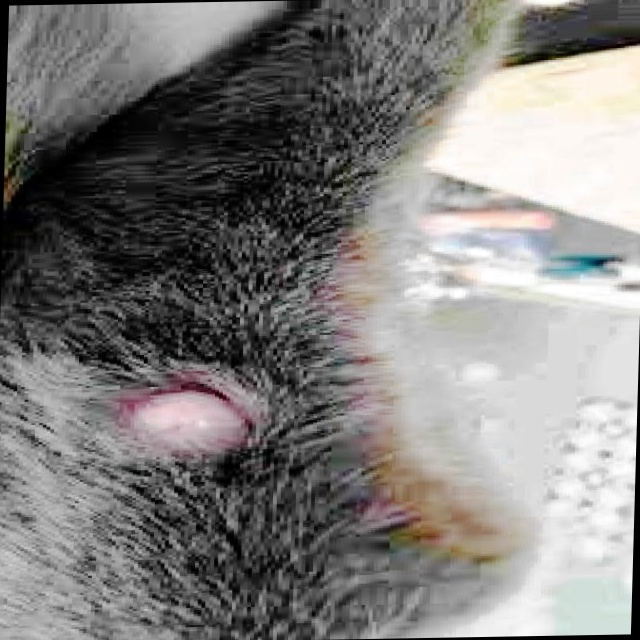lump_and_bump: (117, 374, 262, 458)
